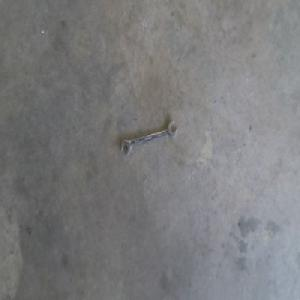Wrench: (120, 120, 178, 157)
